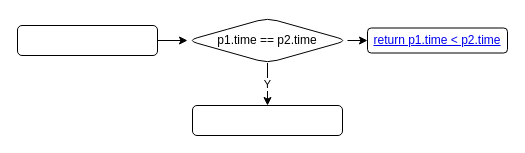
This 525x153 diagram has some shape labels left out. The shapes that lost their labels are listed below. From the top down, each one's centre as x and y in pixels, then its label:
[87,40]: (read Path p1, Path p2)
[267,120]: return p1.node < p2.node
